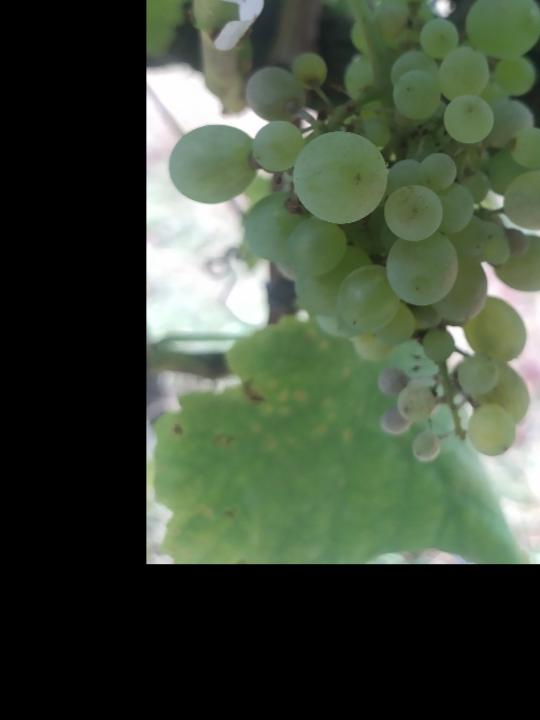grape: (166, 0, 540, 465)
